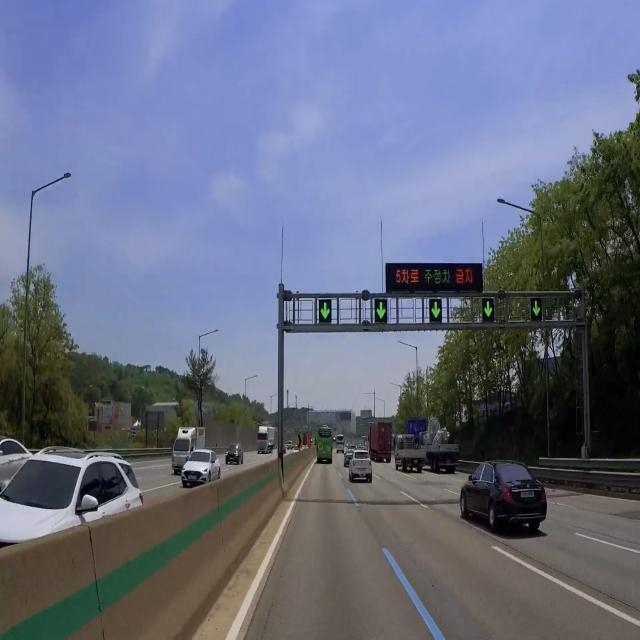car: (519, 490, 540, 501), (187, 472, 199, 488)
